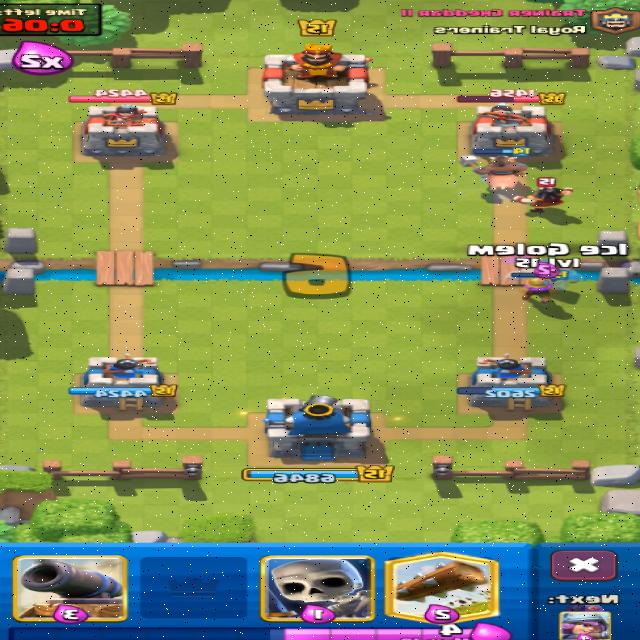Enemy-ElectroWizard: (514, 178, 573, 209)
Enemy-KingTower: (264, 45, 369, 114)
Enemy-PrincessTower: (83, 105, 169, 162), (472, 104, 553, 156)
Player-HogRider: (460, 155, 527, 190)
Player-KingTower-Activated: (264, 395, 371, 461)
Player-Musketeer: (523, 277, 553, 303)
Player-PrincessTower: (71, 354, 176, 410), (458, 354, 552, 409)
